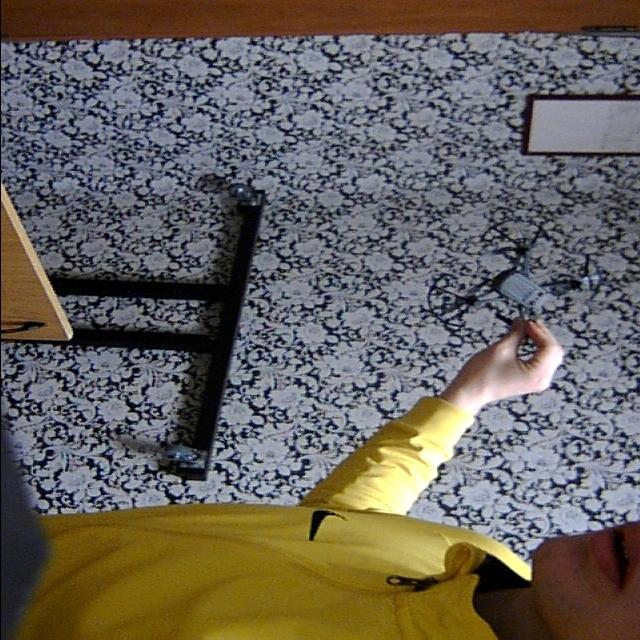drone: (422, 210, 612, 382)
